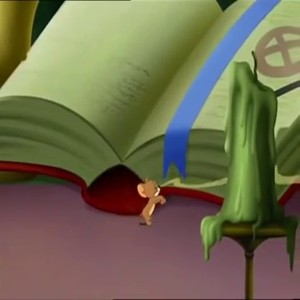Jerry: (135, 176, 167, 229)
